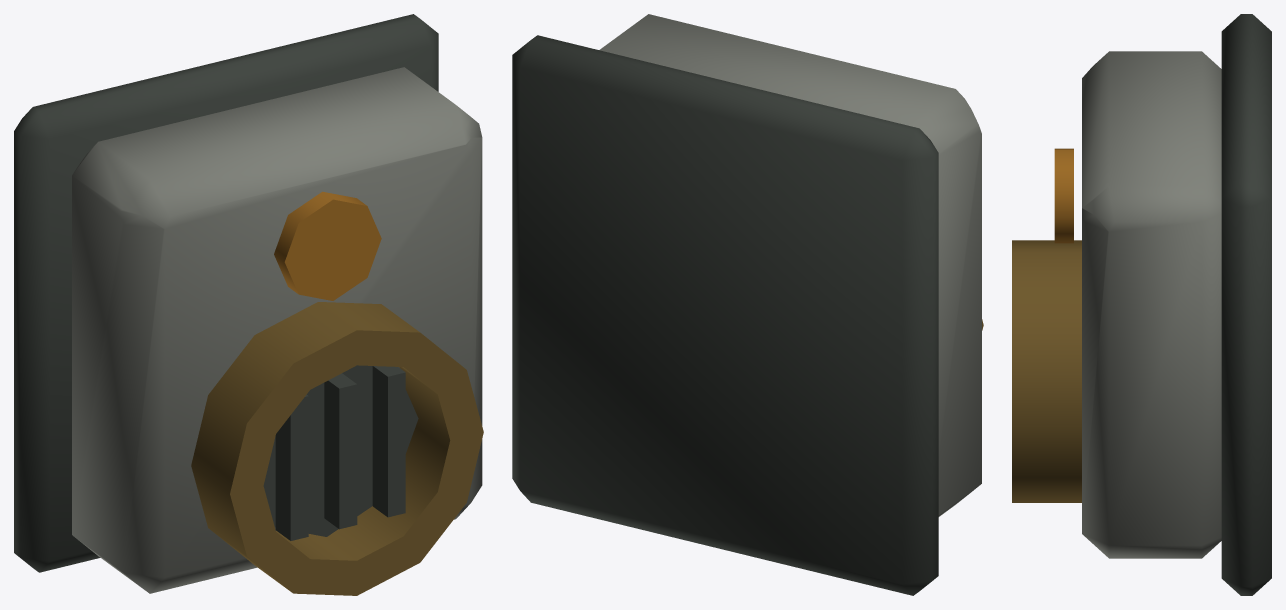
The model's file is oxygen_pump.obj.
3 renders of one model, left to right at view 1: azimuth 30°, elevation 25°; view 2: azimuth 150°, elevation 25°; view 3: azimuth 270°, elevation 25°, orthographic. The views are drawn at different scales.
Visible parts, largest first — view 1: source_component_001, source_component_000, source_component_002, source_component_007, source_component_003, source_component_005, source_component_006, source_component_004; view 2: source_component_000, source_component_001; view 3: source_component_001, source_component_000, source_component_002, source_component_007.
Boxes of the visible parts, box(x1,y1,x2,y2) form: source_component_001: box(72, 67, 482, 593); source_component_000: box(14, 14, 438, 572); source_component_002: box(191, 302, 483, 595); source_component_007: box(274, 191, 381, 300); source_component_003: box(263, 365, 418, 536); source_component_005: box(324, 373, 357, 529); source_component_006: box(372, 366, 405, 517); source_component_004: box(275, 394, 308, 540); source_component_000: box(512, 35, 938, 595); source_component_001: box(599, 14, 981, 516); source_component_001: box(1082, 51, 1221, 558); source_component_000: box(1221, 14, 1271, 595); source_component_002: box(1012, 240, 1081, 502); source_component_007: box(1054, 148, 1073, 243).
Bounding box in the file's own units: 0.56 × 0.59 × 0.335.
